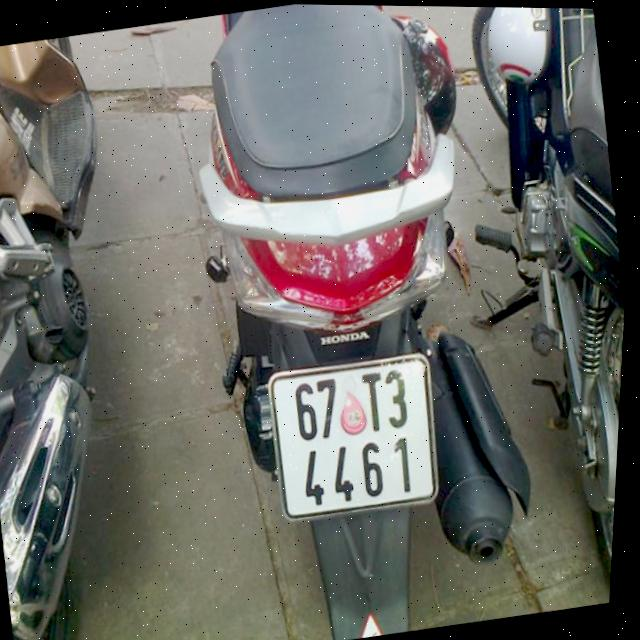motorcycle: (152, 3, 577, 640), (432, 7, 640, 613), (0, 30, 201, 640)
plate: (253, 346, 456, 525)
